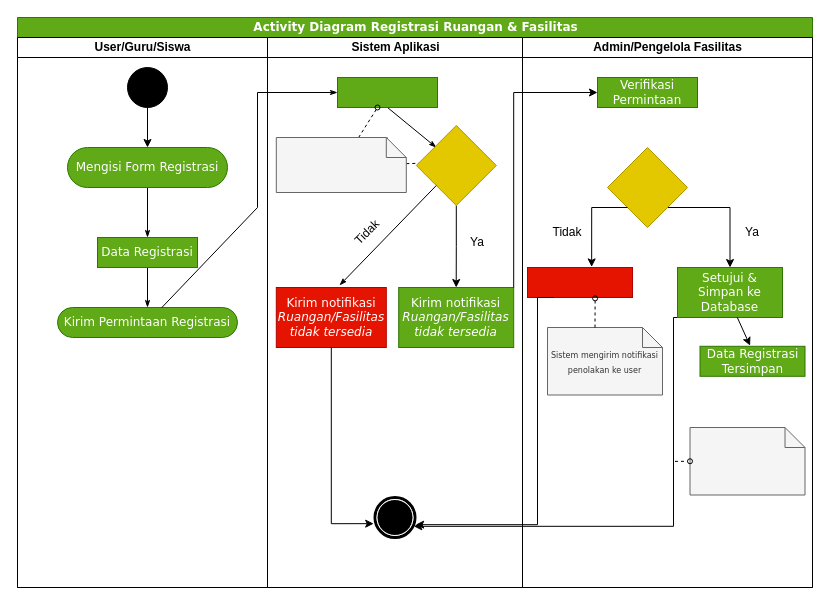
This 830x605 diagram has some shape labels left out. Here are the shapes that lost their labels. From the top down, the centre of each, then its label:
At point 387,92: "Validasi Data Registrasi".
At point 340,164: "Periksa jika ruangan/fasilitas tersedia".
At point 455,165: "Tersedia?".
At point 647,187: "Disetujui?".
At point 579,282: "Tolak Registrasi".
At point 747,460: "Sistem mengirim notifikasi persetujuan ke user".
